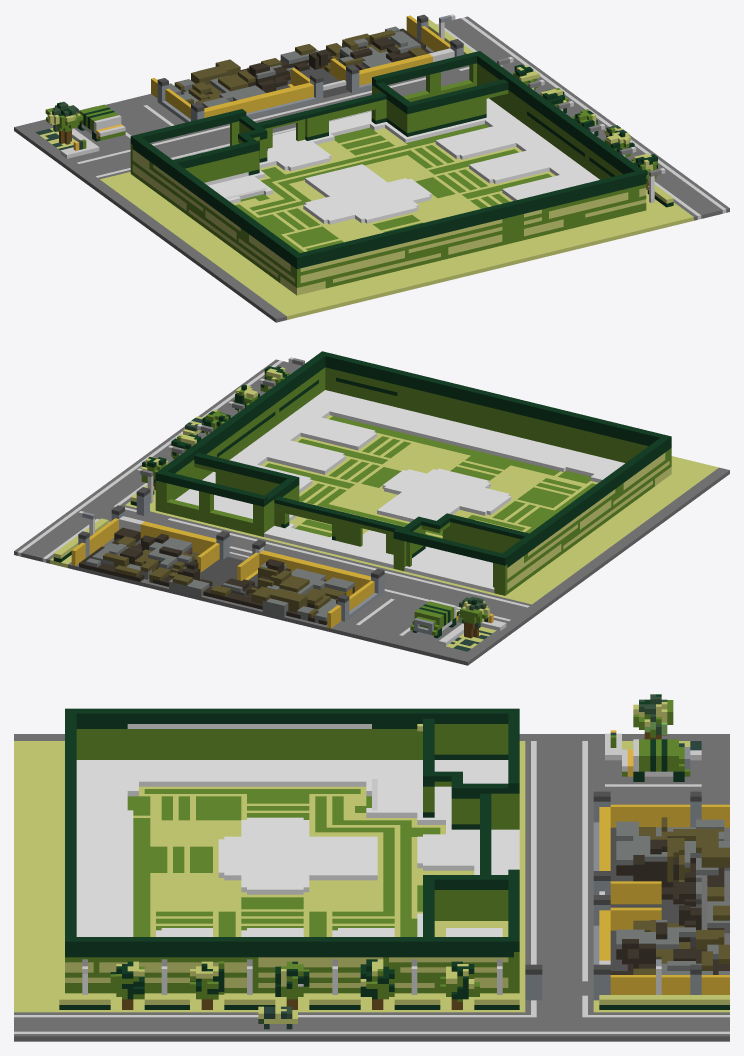
The model's file is MapNoSprite.gltf.
3 renders of one model, top to bottom at view 1: azimuth 30°, elevation 25°; view 2: azimuth 150°, elevation 25°; view 3: azimuth 270°, elevation 25°, orthographic. The views are drawn at different scales.
Bounding box in the file's own units: 12.6 × 1.1 × 12.6.
1 material, 1 textured.
